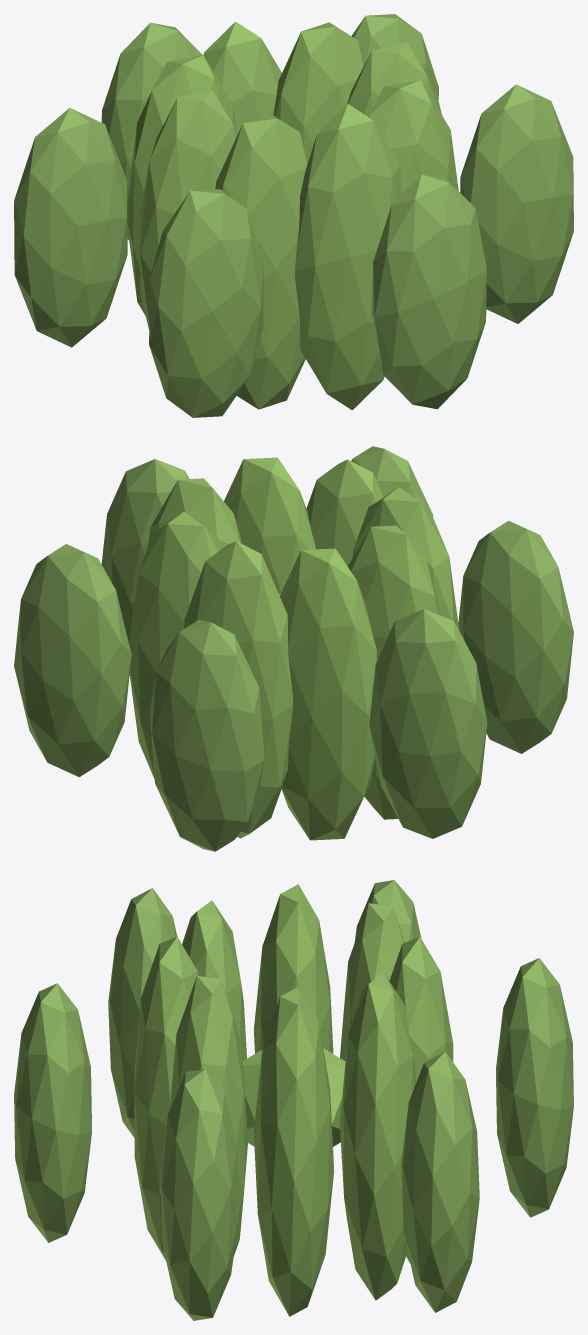
The model's file is talinum-paniculatum.glb.
The picture shows the model from 3 angles, top to bottom: view 1: azimuth 30°, elevation 25°; view 2: azimuth 150°, elevation 25°; view 3: azimuth 270°, elevation 25°; orthographic projection. The views are drawn at different scales.
Parts seen in each view (by area): view 1: leaf02, leaf12, leaf13, leaf11, leaf10, leaf03, leaf04, leaf07, leaf01, leaf14, leaf05, leaf06 (+2 smaller); view 2: leaf05, leaf13, leaf15, leaf14, leaf12, leaf06, leaf07, leaf04, leaf01, leaf10, leaf02, leaf03 (+2 smaller); view 3: leaf00, leaf07, leaf15, leaf11, leaf14, leaf10, leaf02, leaf04, leaf12, leaf01, leaf06, leaf05 (+3 smaller).
Part boxes in pixels (x1=…): leaf02: x1=295, y1=104, x2=402, y2=410; leaf12: x1=149, y1=189, x2=263, y2=417; leaf13: x1=14, y1=108, x2=127, y2=347; leaf11: x1=372, y1=174, x2=486, y2=409; leaf10: x1=460, y1=84, x2=573, y2=323; leaf03: x1=215, y1=114, x2=308, y2=409; leaf04: x1=140, y1=89, x2=238, y2=329; leaf07: x1=273, y1=22, x2=364, y2=159; leaf01: x1=368, y1=80, x2=458, y2=193; leaf14: x1=101, y1=22, x2=202, y2=239; leaf05: x1=127, y1=55, x2=236, y2=315; leaf06: x1=203, y1=21, x2=281, y2=132; leaf05: x1=280, y1=548, x2=377, y2=840; leaf13: x1=369, y1=609, x2=487, y2=838; leaf15: x1=14, y1=544, x2=131, y2=777; leaf14: x1=150, y1=619, x2=264, y2=851; leaf12: x1=458, y1=520, x2=573, y2=753; leaf06: x1=184, y1=541, x2=292, y2=838; leaf07: x1=129, y1=511, x2=220, y2=778; leaf04: x1=348, y1=525, x2=442, y2=819; leaf01: x1=224, y1=457, x2=315, y2=593; leaf10: x1=101, y1=459, x2=189, y2=642; leaf02: x1=306, y1=459, x2=383, y2=566; leaf03: x1=352, y1=487, x2=459, y2=630; leaf00: x1=253, y1=987, x2=333, y2=1316; leaf07: x1=339, y1=973, x2=415, y2=1300; leaf15: x1=401, y1=1051, x2=479, y2=1312; leaf11: x1=14, y1=983, x2=91, y2=1242; leaf14: x1=496, y1=958, x2=573, y2=1217; leaf10: x1=160, y1=1069, x2=238, y2=1320; leaf02: x1=134, y1=937, x2=198, y2=1260; leaf04: x1=254, y1=884, x2=333, y2=1053; leaf12: x1=108, y1=888, x2=177, y2=1137; leaf01: x1=170, y1=976, x2=248, y2=1256; leaf06: x1=389, y1=937, x2=453, y2=1263; leaf05: x1=340, y1=903, x2=404, y2=1061.
Bounding box in the file's own units: 0.2868 × 0.1788 × 0.2768.
